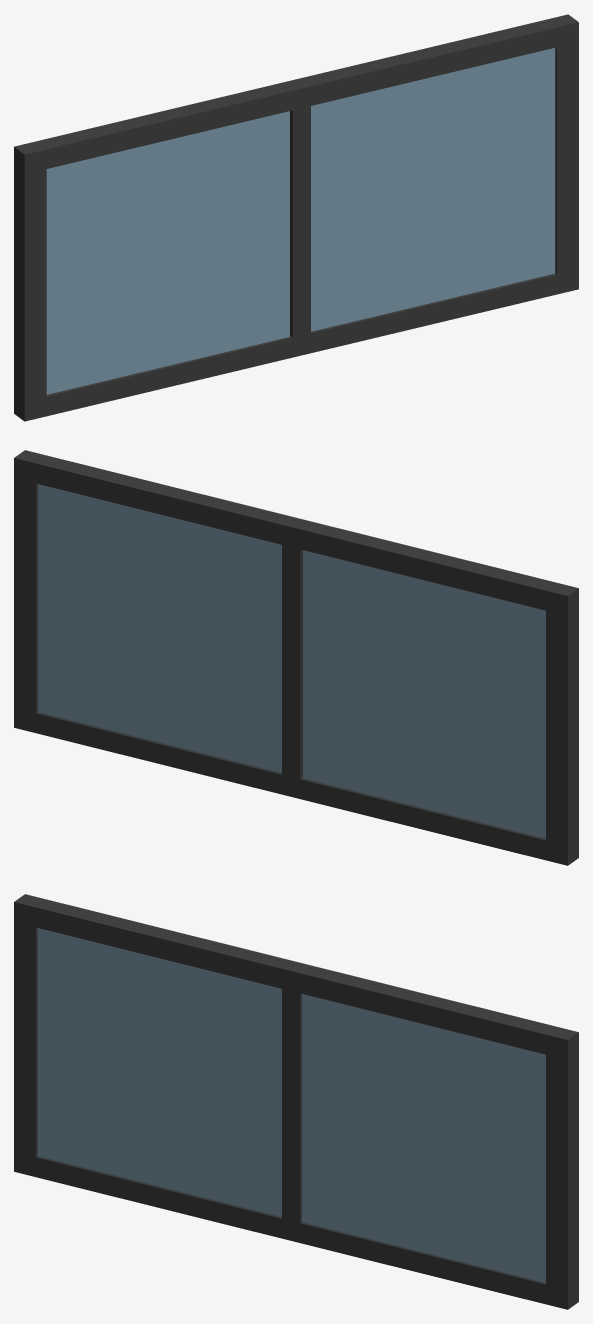
The model's file is Window_17.fbx.
3 views of the same model, one above another, from view 1: azimuth 30°, elevation 25°; view 2: azimuth 150°, elevation 25°; view 3: azimuth 330°, elevation 25° (orthographic).
Visible parts, largest first — view 1: Window_17; view 2: Window_17; view 3: Window_17.
Part boxes in pixels (x1,y1,x2,y2): Window_17: [14, 14, 578, 421]; Window_17: [14, 450, 578, 865]; Window_17: [14, 894, 578, 1309].
Bounding box in the file's own units: 353 × 15.31 × 163.
